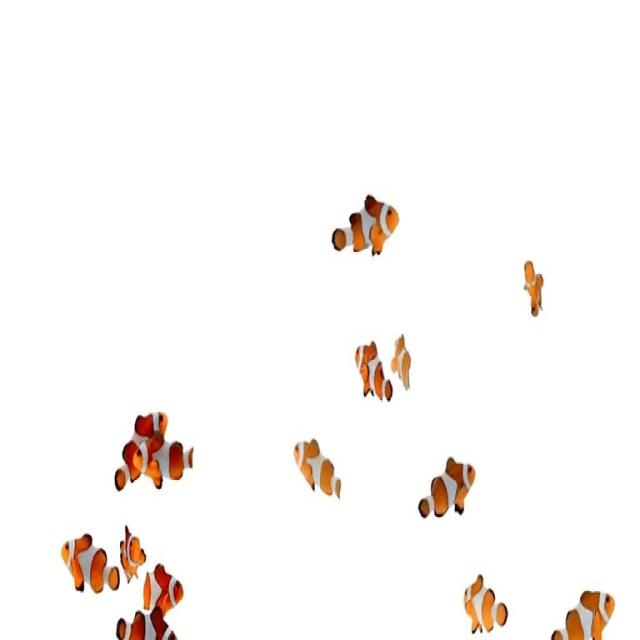fish: (110, 397, 171, 497), (330, 179, 400, 262), (414, 442, 480, 525), (290, 426, 349, 507), (60, 522, 121, 600), (451, 564, 515, 638), (550, 573, 617, 640), (133, 434, 199, 490), (355, 325, 395, 414), (114, 606, 198, 640), (521, 250, 552, 328), (138, 562, 186, 612), (387, 318, 418, 395), (114, 516, 146, 586)
